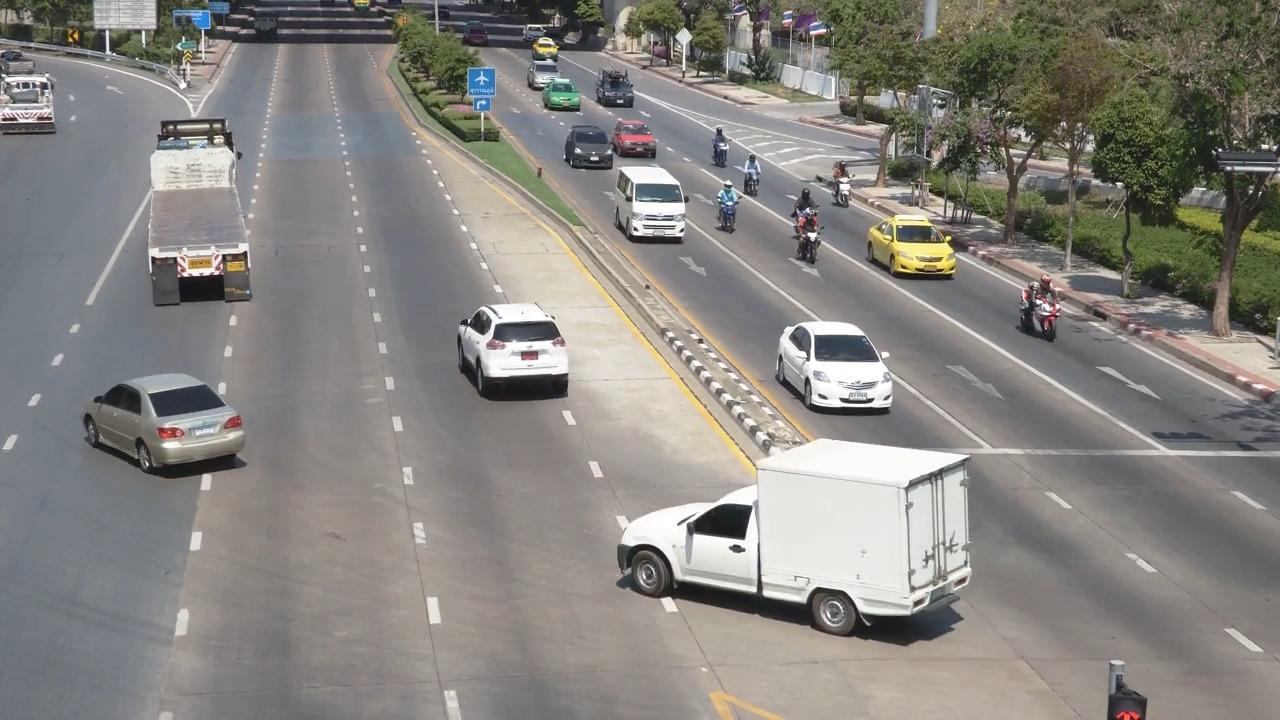CAR: (613, 431, 997, 658), (70, 353, 272, 488), (773, 297, 901, 414), (455, 294, 585, 409), (859, 209, 964, 292), (611, 157, 688, 241), (0, 78, 56, 159), (554, 114, 619, 181), (605, 119, 665, 163), (0, 36, 53, 81), (589, 64, 638, 111), (240, 8, 282, 54), (542, 76, 584, 110)
HGV_BUS: (120, 102, 274, 315)
MOTOR: (1004, 264, 1069, 346), (775, 209, 836, 273), (737, 145, 778, 202), (706, 114, 741, 172), (823, 157, 858, 207), (715, 180, 744, 229)
